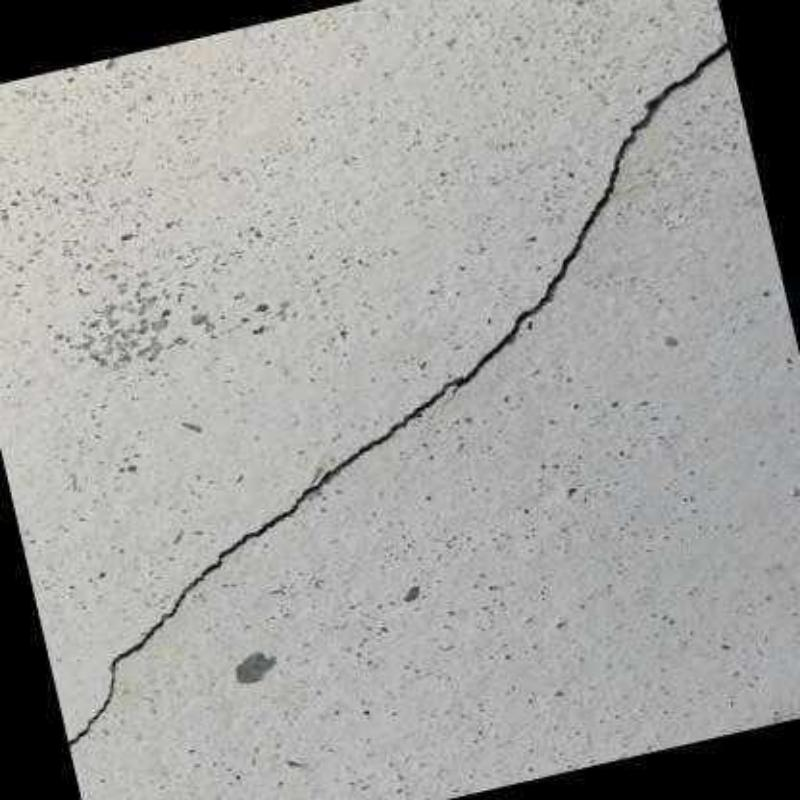pothole: (69, 41, 731, 749)
